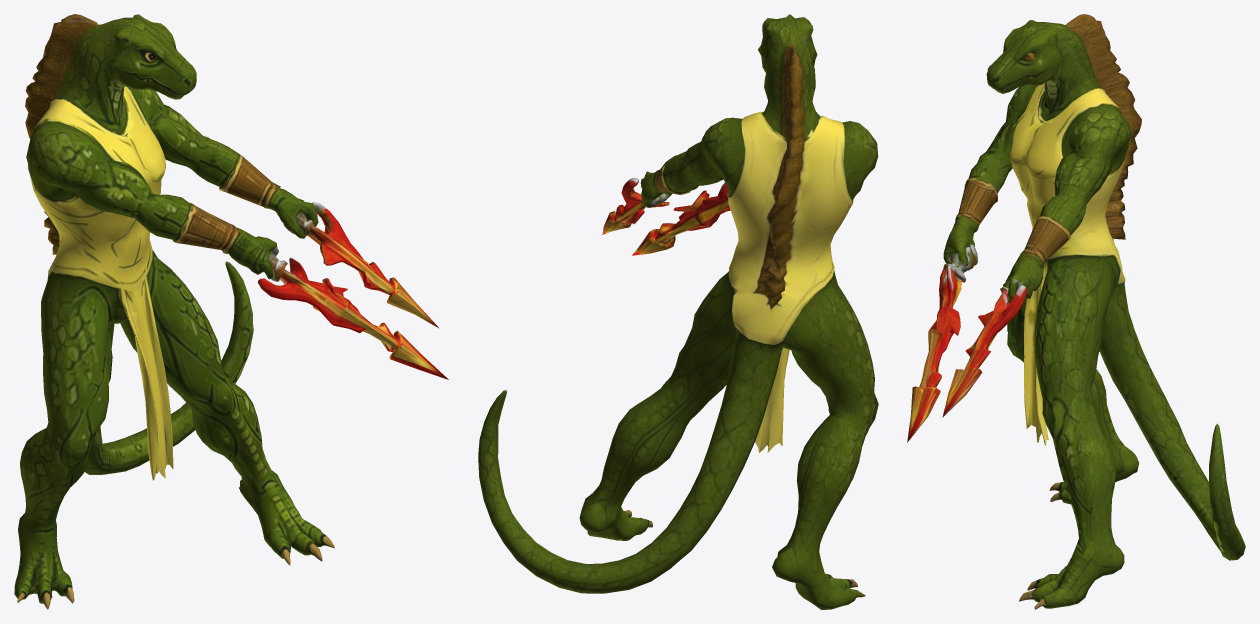
Rendered from lanciafiamme.glb.
The picture shows the model from 3 angles, left to right: view 1: azimuth 30°, elevation 25°; view 2: azimuth 150°, elevation 25°; view 3: azimuth 270°, elevation 25°; orthographic projection. The views are drawn at different scales.
Bounding box in the file's own units: 0.6064 × 0.9531 × 0.582.
Materials: 1 (1 with a texture image).
